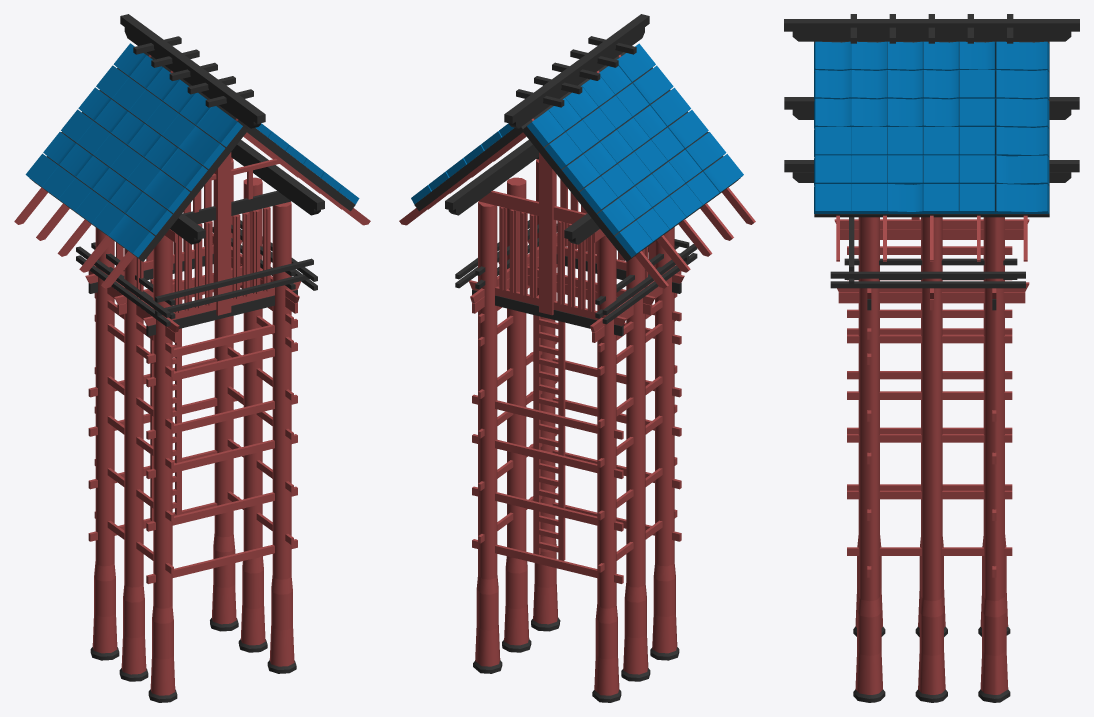
The model's file is LittleTokyoTower2.fbx.
3 renders of one model, left to right at view 1: azimuth 30°, elevation 25°; view 2: azimuth 150°, elevation 25°; view 3: azimuth 270°, elevation 25°, orthographic. The views are drawn at different scales.
Parts seen in each view (by area): view 1: Reduced_Tower1; view 2: Reduced_Tower1; view 3: Reduced_Tower1.
Part boxes in pixels (bbox=[...]): Reduced_Tower1: bbox=[14, 14, 370, 702]; Reduced_Tower1: bbox=[399, 14, 755, 702]; Reduced_Tower1: bbox=[784, 14, 1079, 702].
Size of the model in its own units: 42.76 by 90.83 by 37.85.
